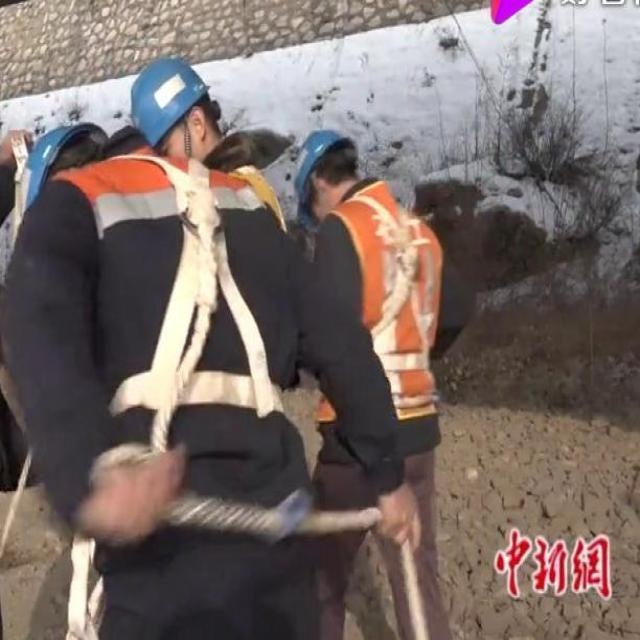Arnes_seguridad: (75, 148, 293, 440), (338, 190, 440, 379)
